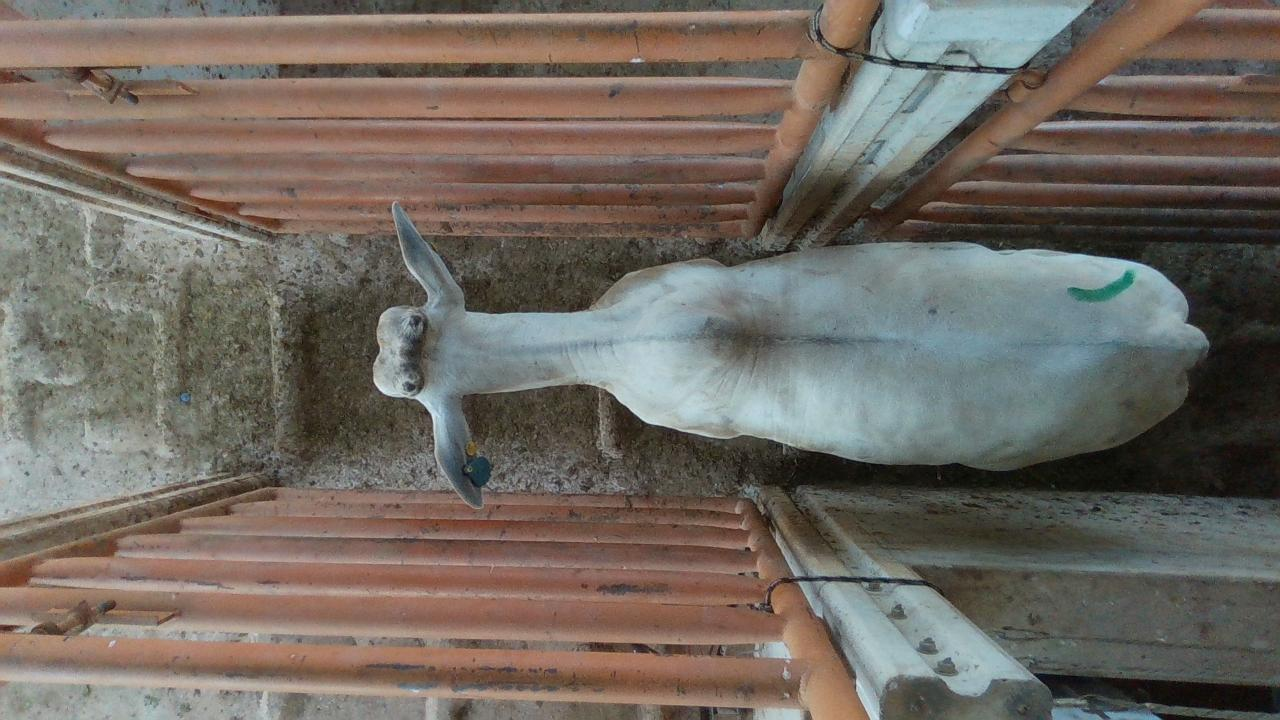cattle: (369, 199, 1210, 508)
